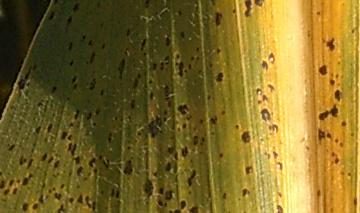tarspot: (16, 65, 33, 90), (147, 114, 163, 140), (318, 103, 339, 121), (162, 84, 175, 109), (142, 176, 154, 198), (116, 58, 127, 80), (186, 169, 198, 187), (259, 107, 272, 123), (325, 36, 337, 52), (123, 159, 134, 176), (174, 59, 184, 77), (243, 1, 253, 18), (239, 129, 250, 144), (213, 11, 223, 27), (177, 103, 189, 116), (100, 156, 111, 170), (87, 78, 97, 93), (333, 88, 342, 104), (317, 127, 325, 145), (266, 123, 279, 134), (318, 63, 328, 77), (163, 189, 173, 203), (155, 194, 164, 209), (26, 157, 35, 172), (87, 157, 98, 169), (259, 59, 269, 72), (164, 32, 171, 49), (180, 145, 189, 158), (267, 51, 275, 65), (139, 38, 147, 52), (84, 195, 92, 209), (273, 161, 283, 172), (208, 115, 218, 126), (71, 2, 81, 13), (56, 203, 67, 213), (167, 131, 178, 141), (47, 10, 56, 22), (170, 113, 176, 131), (89, 50, 96, 65), (71, 142, 78, 157), (241, 188, 251, 198), (20, 176, 30, 186), (128, 98, 137, 109), (59, 130, 68, 141), (189, 204, 200, 213), (164, 161, 173, 172), (72, 155, 81, 166), (216, 72, 224, 84), (65, 14, 73, 26), (131, 77, 139, 89), (75, 165, 83, 177), (76, 193, 84, 205), (106, 131, 113, 144), (254, 87, 263, 97), (275, 203, 284, 213), (70, 75, 79, 85), (165, 145, 174, 155), (54, 192, 63, 202), (159, 9, 169, 18), (80, 33, 88, 44), (85, 111, 93, 122), (46, 123, 54, 134), (40, 152, 48, 163), (53, 158, 61, 169), (253, 1, 265, 8), (73, 108, 80, 120), (192, 134, 199, 146), (179, 199, 186, 211), (172, 149, 179, 161), (266, 83, 275, 92), (245, 165, 254, 174), (332, 136, 341, 145), (7, 143, 16, 152), (51, 171, 60, 180), (50, 85, 58, 95), (87, 38, 95, 48), (157, 186, 165, 196), (91, 200, 97, 213), (333, 155, 340, 166), (271, 150, 278, 161), (164, 55, 171, 66), (148, 90, 155, 101), (8, 178, 15, 189), (340, 119, 348, 128), (143, 1, 152, 9), (125, 26, 131, 38), (178, 31, 186, 40), (177, 8, 183, 20), (214, 46, 222, 55), (221, 191, 228, 201), (315, 188, 322, 198), (31, 62, 38, 72), (94, 107, 101, 117), (34, 125, 41, 135), (67, 132, 74, 142), (59, 182, 66, 192), (22, 202, 28, 213), (38, 193, 44, 204), (126, 113, 132, 124), (42, 103, 48, 114), (167, 208, 180, 213), (19, 154, 24, 167), (328, 78, 336, 86), (338, 141, 346, 149), (83, 60, 91, 68), (184, 114, 192, 122), (31, 203, 39, 211), (262, 94, 269, 103), (351, 25, 358, 34), (325, 131, 332, 140), (123, 47, 130, 56), (98, 20, 105, 29), (47, 156, 54, 165), (2, 188, 9, 197), (352, 197, 358, 207), (67, 41, 73, 51), (67, 141, 72, 153), (1, 178, 6, 190), (68, 166, 73, 178), (256, 98, 263, 106), (346, 171, 353, 179), (68, 59, 75, 67), (140, 15, 147, 23), (36, 101, 43, 109), (114, 189, 119, 200), (110, 186, 115, 197), (99, 88, 105, 97), (100, 42, 106, 51), (152, 170, 158, 179), (12, 187, 18, 196), (43, 135, 49, 144), (99, 187, 104, 197), (174, 53, 181, 60), (207, 62, 214, 69), (189, 55, 196, 62), (158, 66, 165, 73), (162, 108, 169, 115), (27, 172, 34, 179), (195, 68, 202, 75), (208, 130, 215, 137), (74, 183, 81, 190), (315, 9, 321, 17), (231, 8, 237, 16), (72, 83, 78, 91), (181, 122, 187, 130), (200, 135, 206, 143), (68, 196, 74, 204), (15, 178, 21, 186), (41, 181, 47, 189), (187, 62, 192, 71), (151, 62, 156, 71), (348, 131, 354, 138), (330, 151, 336, 158), (339, 170, 345, 177), (220, 109, 226, 116), (91, 120, 97, 127), (194, 45, 200, 52), (158, 60, 165, 66), (147, 78, 153, 85), (146, 13, 152, 20), (118, 116, 124, 123), (135, 130, 141, 137), (96, 1, 101, 9), (206, 94, 211, 102), (30, 147, 35, 155), (217, 152, 223, 158), (234, 123, 240, 129), (53, 1, 59, 7), (163, 115, 167, 124), (187, 189, 193, 195), (92, 168, 98, 174), (22, 157, 28, 163), (51, 185, 57, 191), (209, 1, 216, 6), (136, 72, 141, 79), (199, 118, 204, 125), (126, 144, 131, 151), (51, 111, 56, 118), (142, 51, 147, 57), (195, 55, 200, 61), (97, 154, 102, 160), (65, 95, 70, 101), (82, 176, 88, 181), (47, 188, 52, 194), (154, 9, 158, 16), (182, 69, 187, 74), (44, 99, 49, 104), (31, 142, 37, 146), (164, 201, 167, 208), (113, 116, 117, 121), (68, 121, 73, 123), (1, 170, 2, 178)
